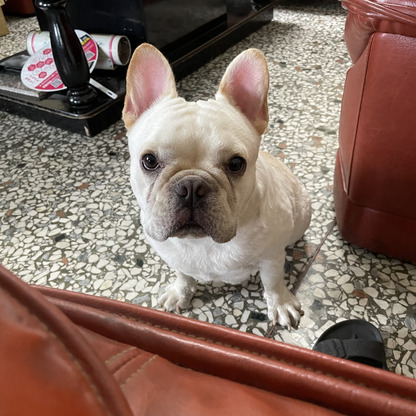bulldog: (115, 37, 322, 330)
